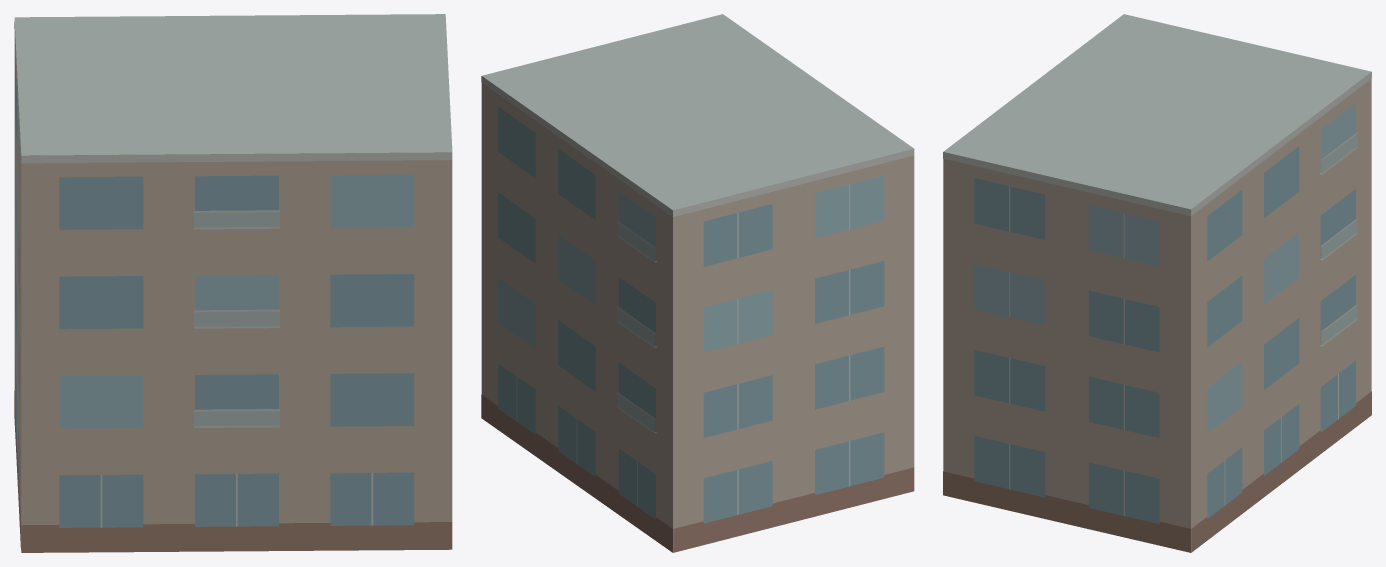
The model's file is survey-upis-32675607.glb.
The picture shows the model from 3 angles, left to right: view 1: azimuth 30°, elevation 25°; view 2: azimuth 150°, elevation 25°; view 3: azimuth 270°, elevation 25°; orthographic projection. The views are drawn at different scales.
Visible parts, largest first — view 1: survey-upis-32675607.tmp; view 2: survey-upis-32675607.tmp; view 3: survey-upis-32675607.tmp.
Boxes of the visible parts, x1,y1,x2,y2 form: survey-upis-32675607.tmp: (14, 14, 452, 552); survey-upis-32675607.tmp: (481, 14, 914, 552); survey-upis-32675607.tmp: (943, 14, 1371, 552).
Size of the model in its own units: 15.14 by 12.4 by 14.03.
